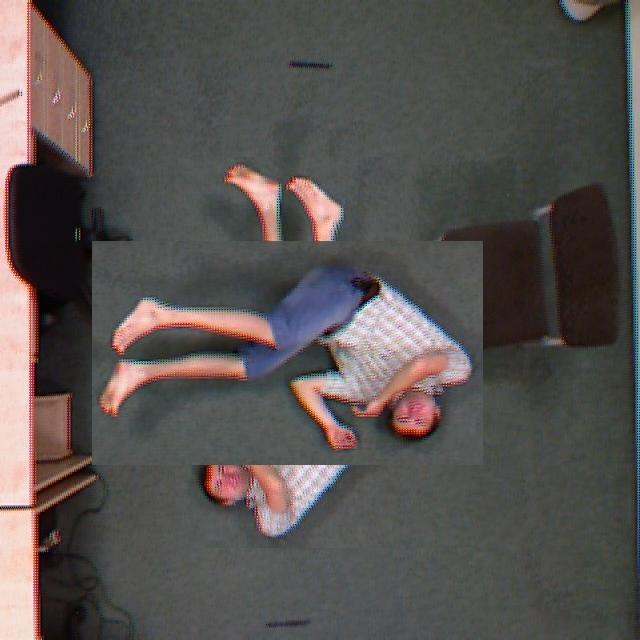Fall: (92, 240, 500, 454)
